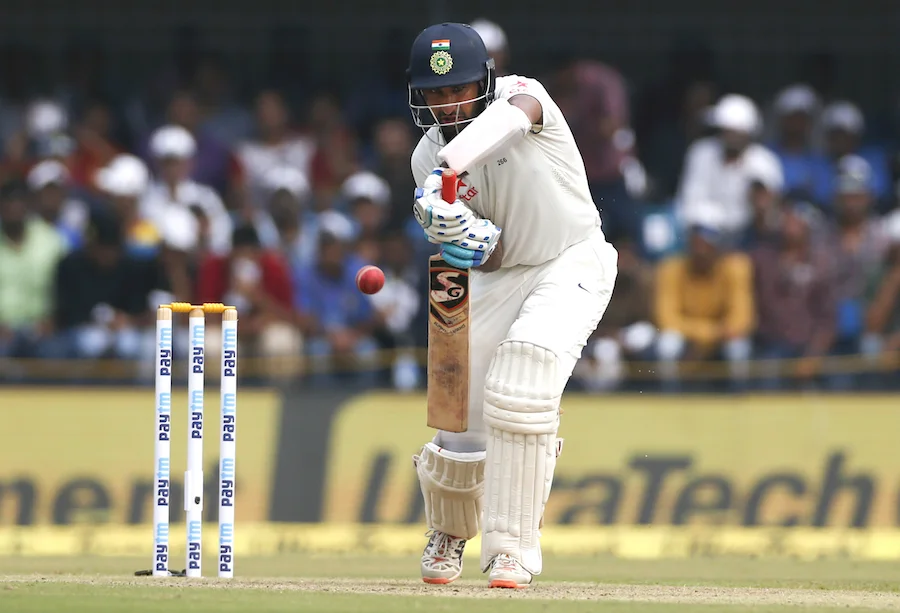Defence: (114, 11, 713, 613)
